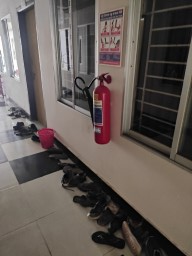fire_extinguisher: (54, 107, 109, 157), (55, 107, 109, 132)
